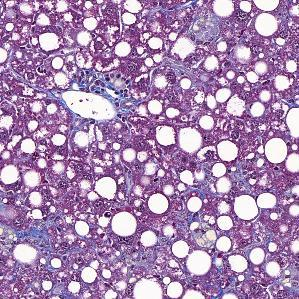fibrosis: (79, 69, 154, 96)
